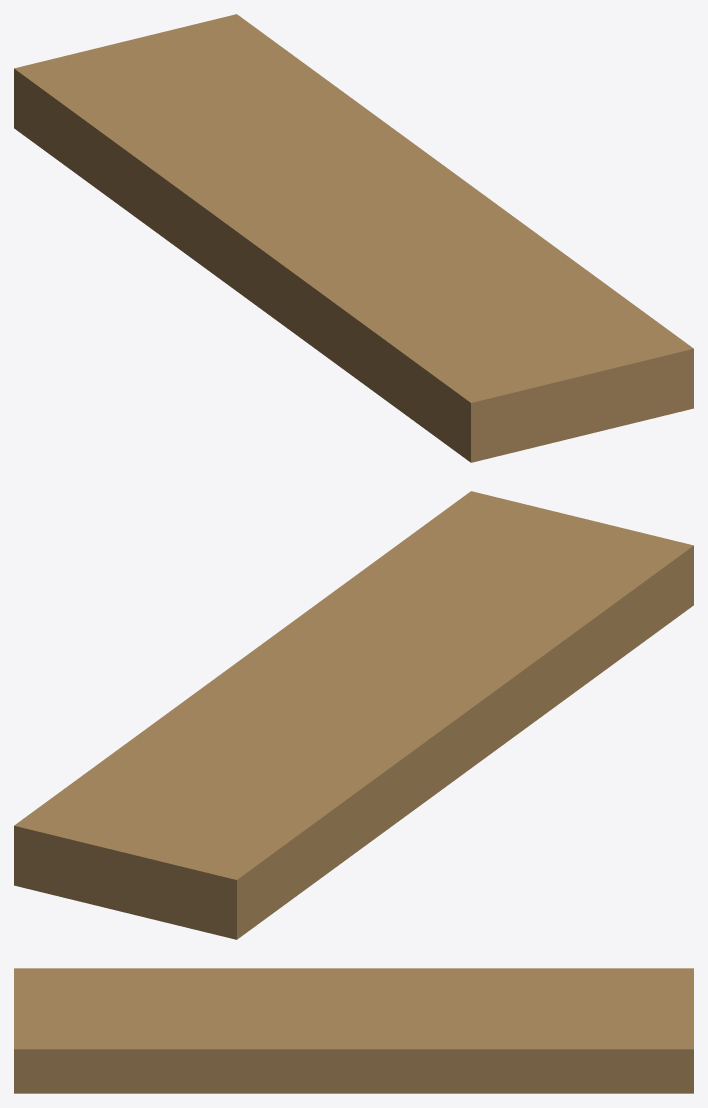
3 views of the same model, one above another, from view 1: azimuth 30°, elevation 25°; view 2: azimuth 150°, elevation 25°; view 3: azimuth 270°, elevation 25° (orthographic). The views are drawn at different scales.
Parts seen in each view (by area): view 1: STAIR-B5-13; view 2: STAIR-B5-13; view 3: STAIR-B5-13.
Part boxes in pixels (box(x1,y1,x2,y2)): STAIR-B5-13: box(14, 14, 693, 462); STAIR-B5-13: box(14, 491, 693, 939); STAIR-B5-13: box(14, 968, 693, 1093).
Bounding box in the file's own units: 0.2533 × 0.065 × 0.9.
